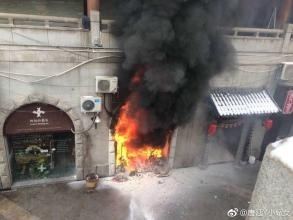fire: (110, 99, 169, 165)
